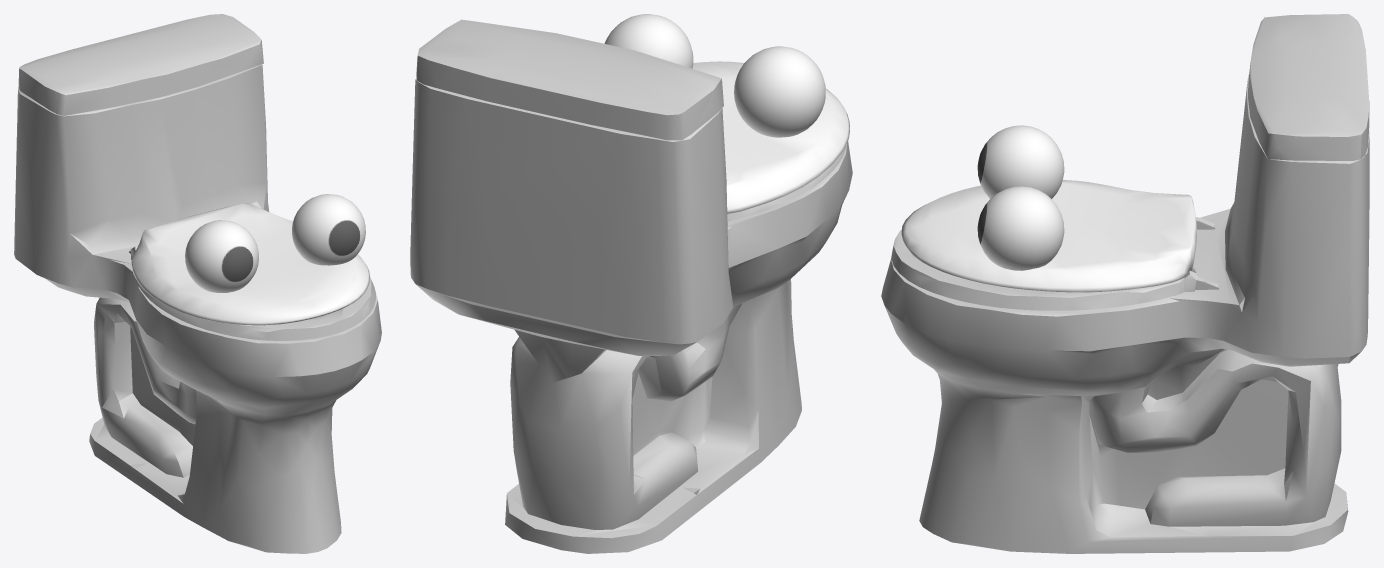
Rendered from toilet2x.dae.
3 renders of one model, left to right at view 1: azimuth 30°, elevation 25°; view 2: azimuth 150°, elevation 25°; view 3: azimuth 270°, elevation 25°, orthographic. The views are drawn at different scales.
Visible parts, largest first — view 1: lid; view 2: lid; view 3: lid.
Part boxes in pixels (bbox=[...]): lid: bbox=[14, 14, 381, 553]; lid: bbox=[410, 14, 852, 553]; lid: bbox=[881, 14, 1369, 553].
Bounding box in the file's own units: 2.56 × 4.04 × 4.07.
